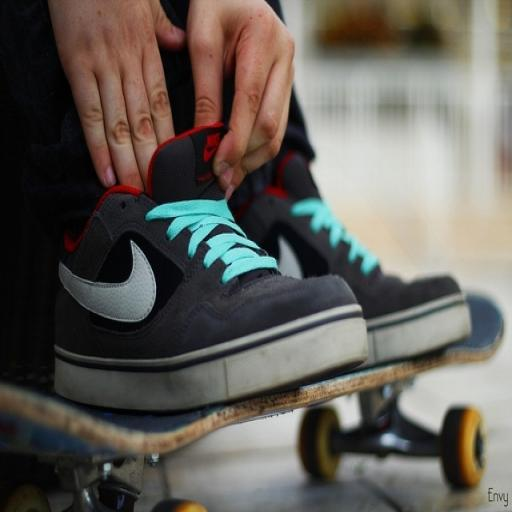shoe: (55, 125, 367, 411), (235, 154, 471, 364)
